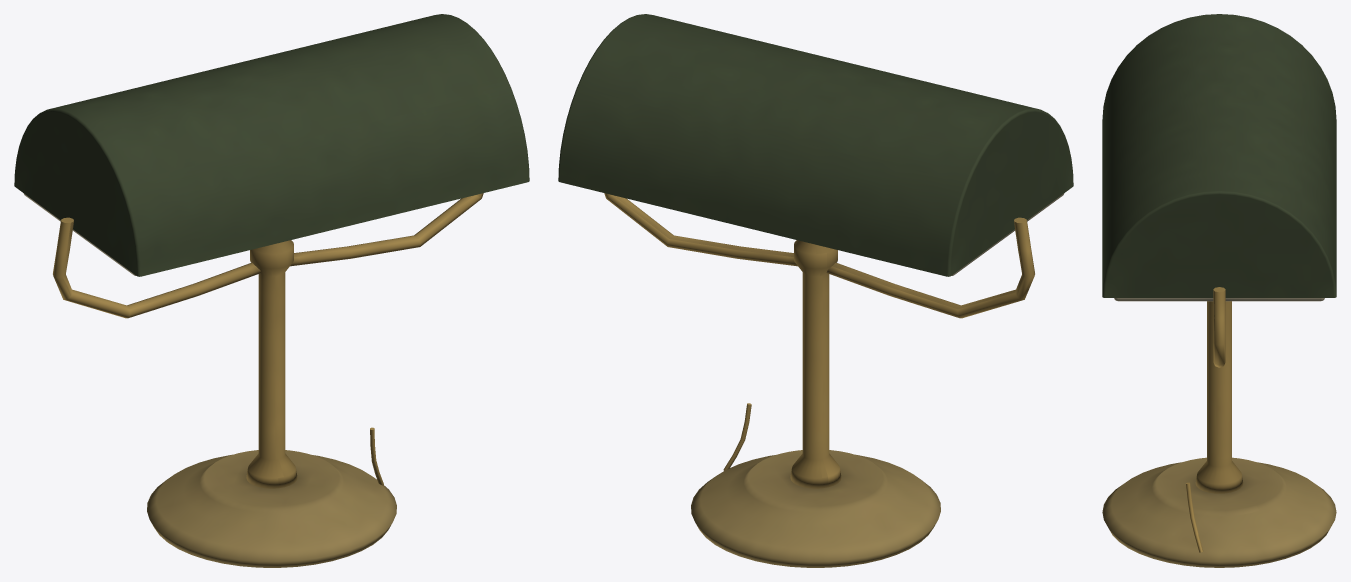
The model's file is lamp-01.gltf.
The picture shows the model from 3 angles, left to right: view 1: azimuth 30°, elevation 25°; view 2: azimuth 150°, elevation 25°; view 3: azimuth 270°, elevation 25°; orthographic projection. The views are drawn at different scales.
Visible parts, largest first — view 1: lamp-01; view 2: lamp-01; view 3: lamp-01.
Boxes of the visible parts, x1,y1,x2,y2 form: lamp-01: (14, 14, 529, 567); lamp-01: (558, 14, 1073, 567); lamp-01: (1102, 14, 1336, 567).
Size of the model in its own units: 0.5239 by 0.52 by 0.26.
4 materials, 4 textured.
